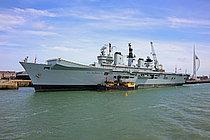MIL_Ship: (18, 37, 189, 89)
